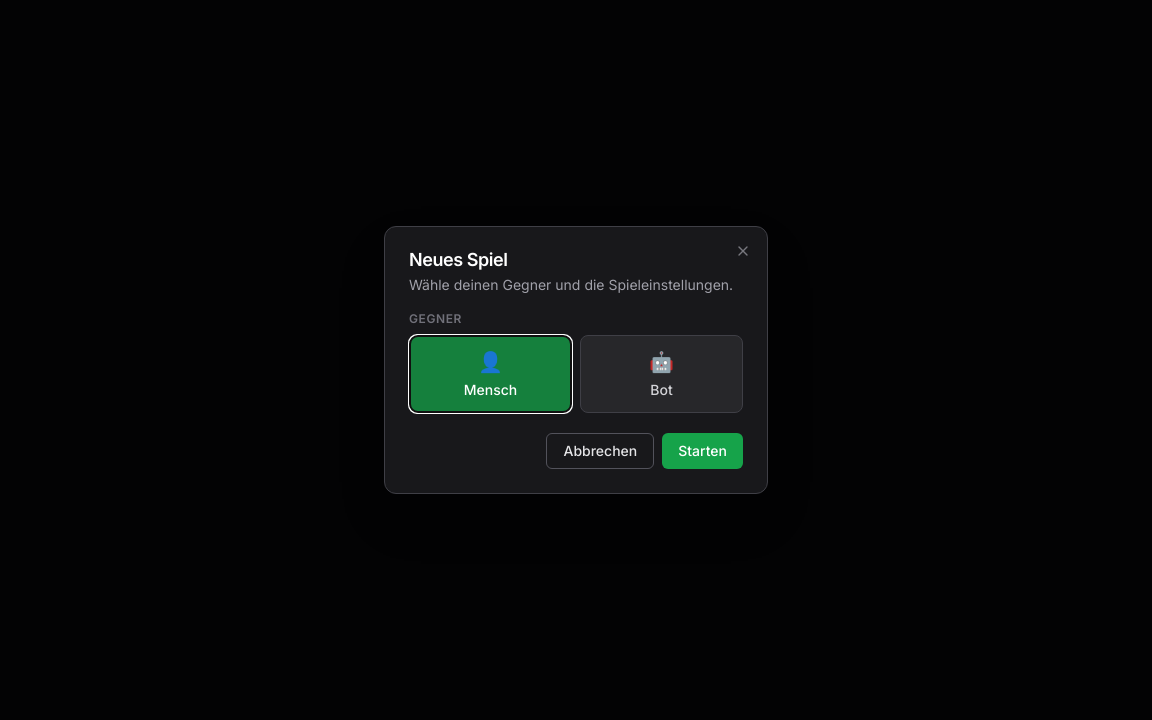
Test: GameSetupModal › hides bot options again when switching back to human
Click the button with test id "btn-opponent-bot" at point(662, 374), box left=580, top=335, right=743, bottom=413
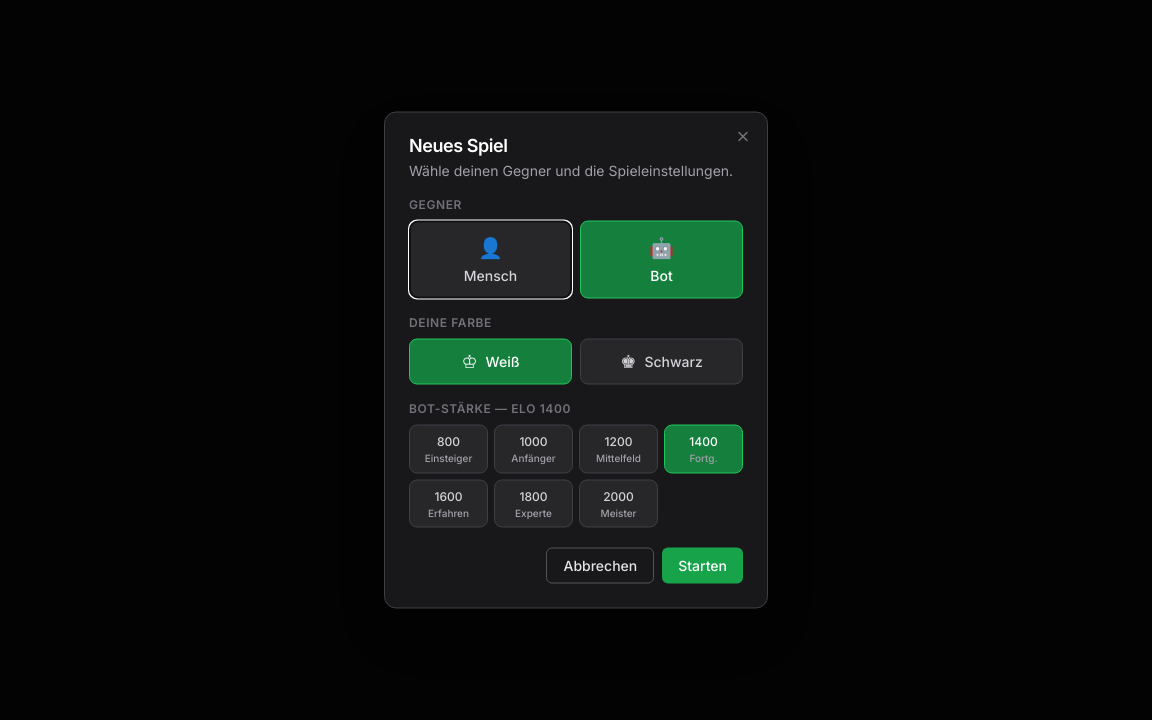
Click the button with test id "btn-opponent-human" at point(490, 260), box left=409, top=220, right=572, bottom=298
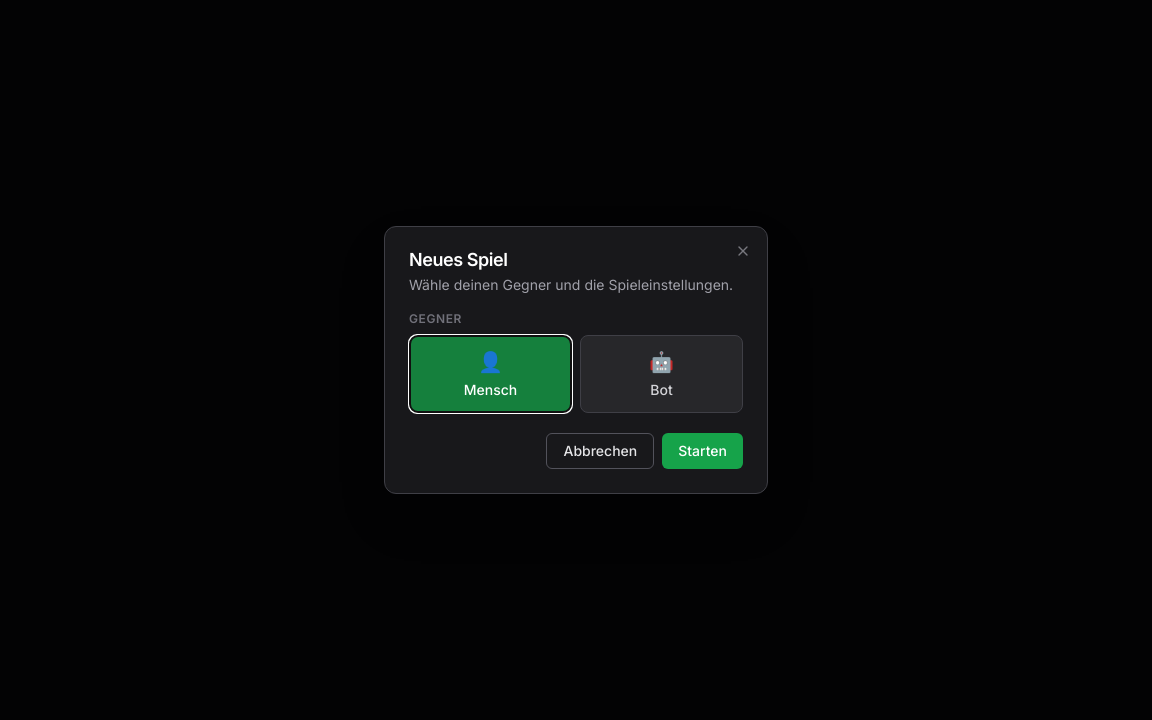
Check: the button with test id "btn-color-white" is gone
Check: the button with test id "btn-elo-1400" is gone
